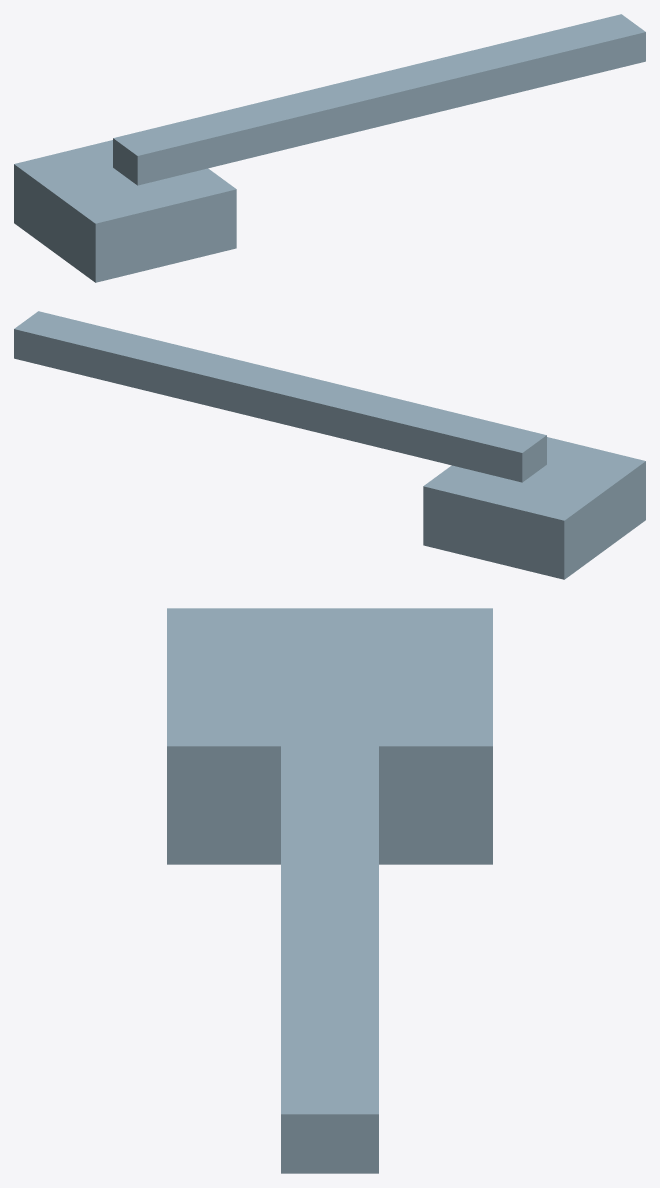
The model's file is mechanism.glb.
The picture shows the model from 3 angles, top to bottom: view 1: azimuth 30°, elevation 25°; view 2: azimuth 150°, elevation 25°; view 3: azimuth 270°, elevation 25°; orthographic projection. The views are drawn at different scales.
Visible parts, largest first — view 1: base, first-link, second-link; view 2: base, first-link, second-link; view 3: base, second-link, first-link.
Part boxes in pixels (bbox=[...]): base: bbox=[14, 140, 236, 282]; first-link: bbox=[113, 69, 419, 185]; second-link: bbox=[396, 14, 645, 116]; base: bbox=[423, 437, 645, 579]; first-link: bbox=[240, 366, 546, 482]; second-link: bbox=[14, 311, 263, 413]; base: bbox=[167, 608, 492, 864]; second-link: bbox=[281, 894, 378, 1173]; first-link: bbox=[281, 618, 378, 893].
Size of the model in its own units: 2.05 by 0.3 by 0.5.
